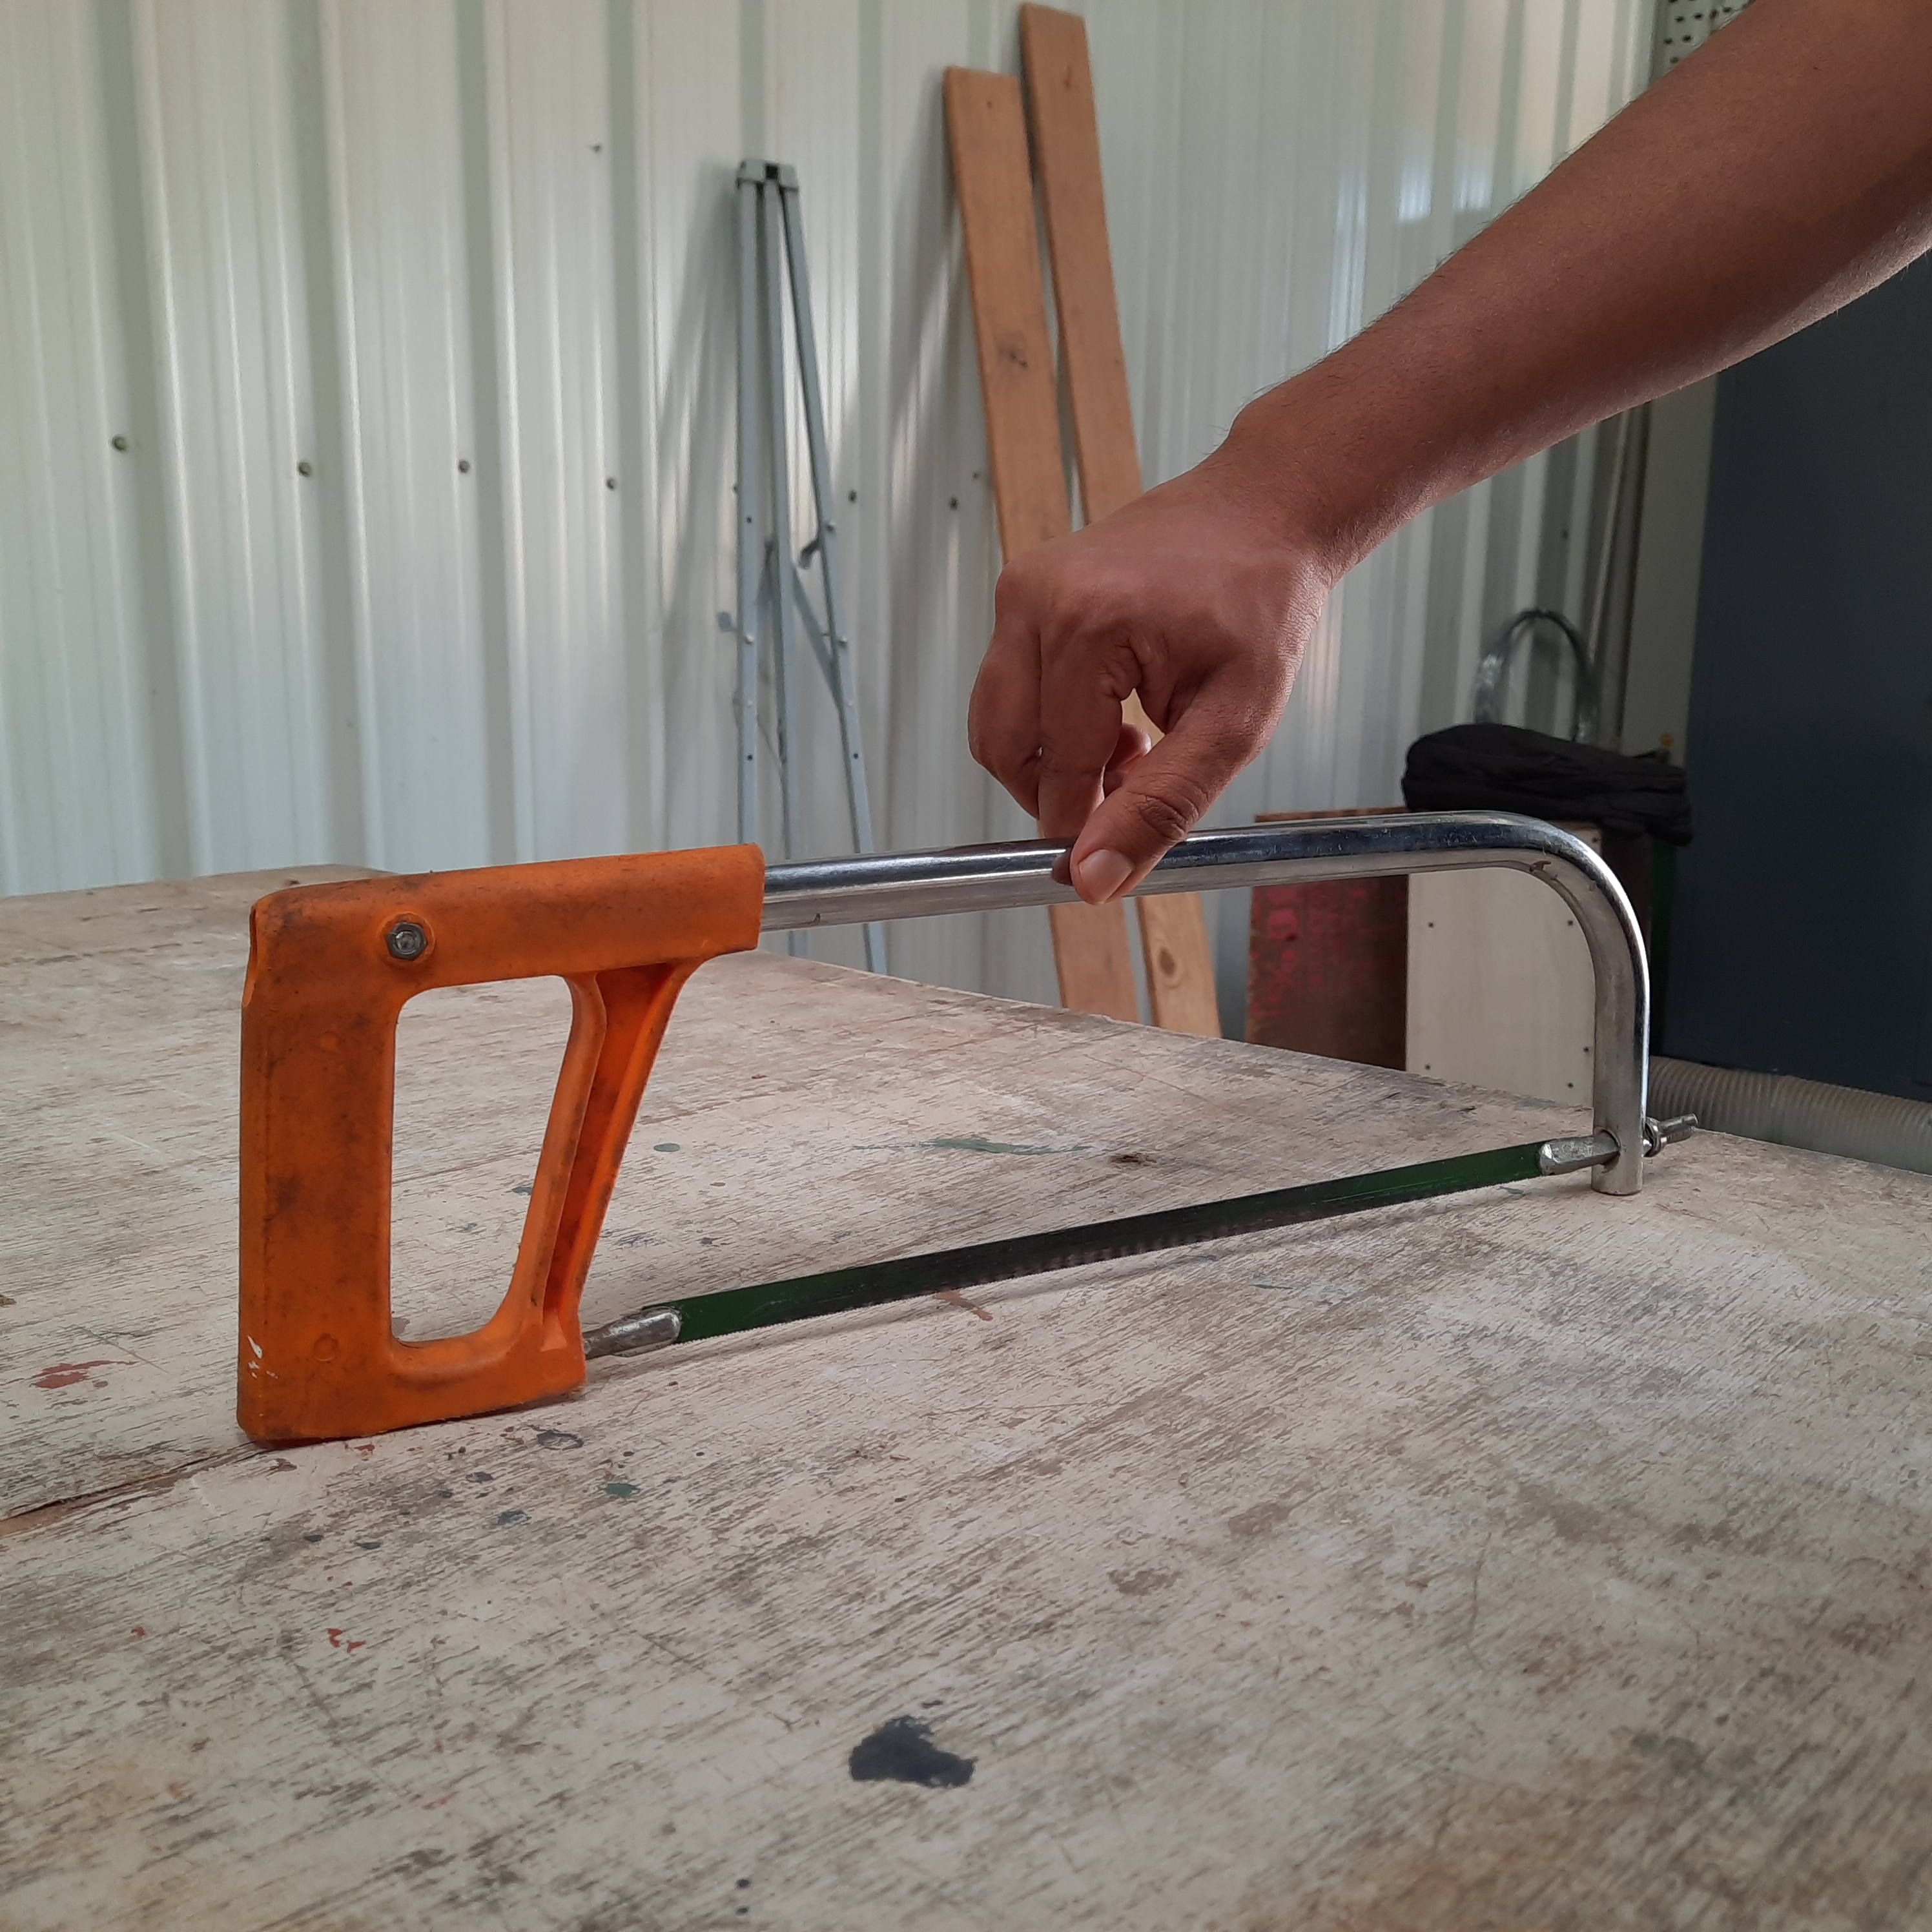Hexaframe: (152, 796, 1759, 1451)
